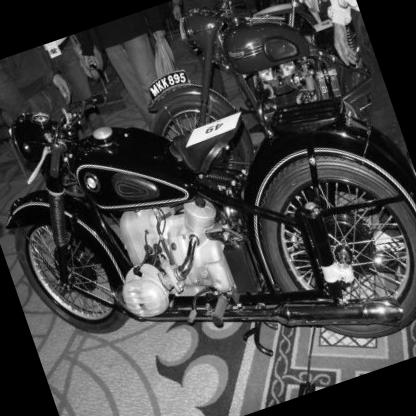moto: (1, 7, 416, 416)
